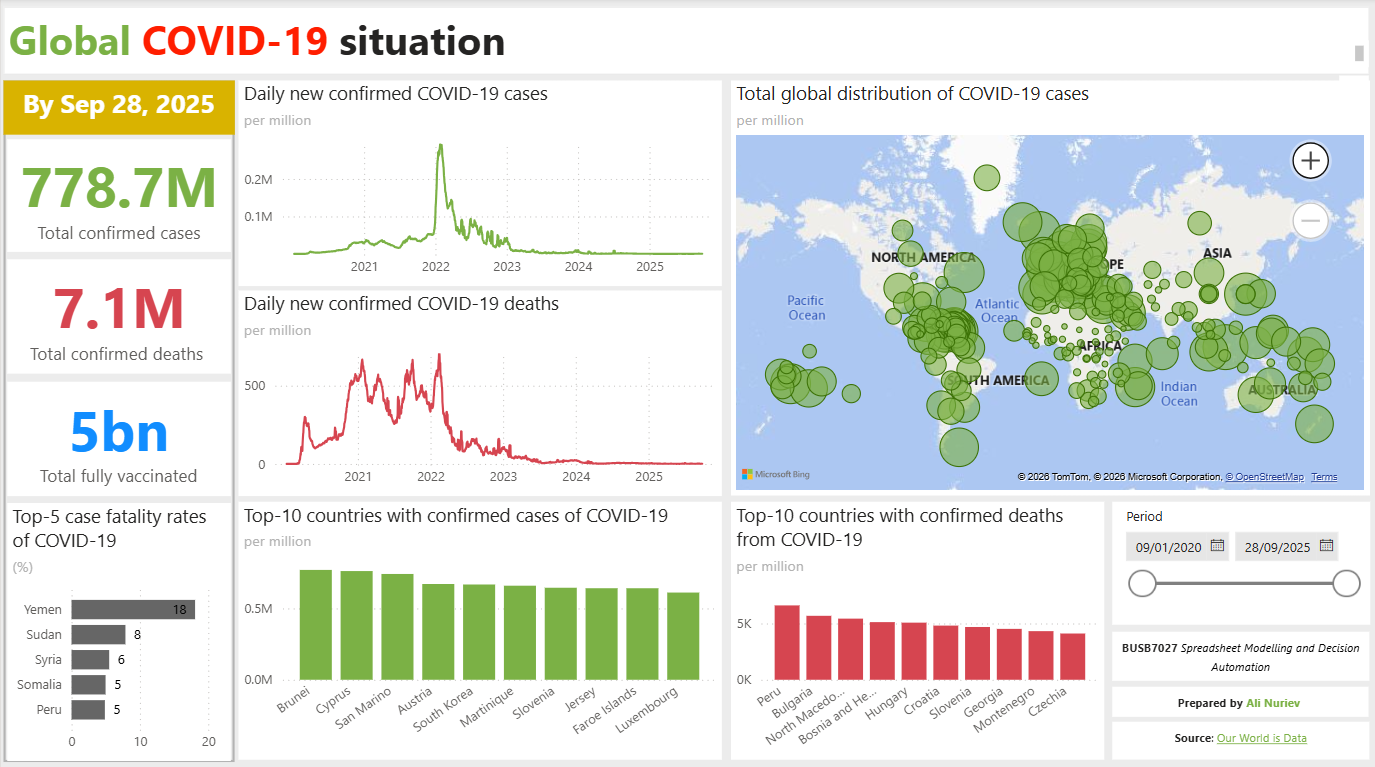

The dashboard page shown, as its layout file describes it:
{"tool":"powerbi","page":{"name":"1. Global Overview","canvas":[1280,720],"ordinal":1},"visuals":[{"type":"shape","box":[2,77,215,634],"z":0},{"type":"textbox","box":[2.2,8.3,1270.6,62.8],"z":1000},{"type":"map","title":"Total global distribution of COVID-19 cases ","fields":{"Size":["Sum(daily-new-confirmed-covid-19-cases-deaths-per-million-people.Confirmed cases)"],"Category":["daily-new-confirmed-covid-19-cases-deaths-per-million-people.Entity"]},"box":[678.5,77,594.3,386],"z":2000},{"type":"textbox","box":[711.8,40,560.9,24.5],"z":3000},{"type":"slicer","fields":{"Values":["daily-new-confirmed-covid-19-cases-deaths-per-million-people.Day Hierarchy.Day"]},"box":[1033.8,468.8,239.4,114.4],"z":4000},{"type":"card","fields":{"Values":["Sum(cumulative-confirmed-covid-19-deaths.Total confirmed deaths due to COVID-19)"]},"box":[5.6,242.8,208.3,106.1],"z":5000},{"type":"card","fields":{"Values":["Sum(cumulative-confirmed-covid-19-cases.Total confirmed cases of COVID-19)"]},"box":[5.6,131.7,208.3,104.4],"z":6000},{"type":"textbox","box":[2.2,77.2,215,50.6],"z":7000},{"type":"card","fields":{"Values":["Sum(number-of-people-who-completed-the-initial-covid-19-vaccination-protocol.People fully vaccinated (cumulative))"]},"box":[5.6,356.7,207.8,106.1],"z":8000},{"type":"lineChart","title":"Daily new confirmed COVID-19 deaths","fields":{"Y":["Sum(daily-new-confirmed-covid-19-cases-deaths-per-million-people.Confirmed death)"],"Category":["daily-new-confirmed-covid-19-cases-deaths-per-million-people.Day Hierarchy.Day"]},"box":[220.7,272,449.6,190.9],"z":9000},{"type":"lineChart","title":"Daily new confirmed COVID-19 cases","fields":{"Y":["Sum(daily-new-confirmed-covid-19-cases-deaths-per-million-people.Confirmed cases)"],"Category":["daily-new-confirmed-covid-19-cases-deaths-per-million-people.Day Hierarchy.Day"]},"box":[220.7,77,449.6,190.9],"z":10000},{"type":"columnChart","title":"Top-10 countries with confirmed deaths from COVID-19","fields":{"Category":["daily-new-confirmed-covid-19-cases-deaths-per-million-people.Entity"],"Y":["Sum(daily-new-confirmed-covid-19-cases-deaths-per-million-people.Confirmed death)"]},"box":[678.5,469.1,346.9,240.2],"z":11000},{"type":"clusteredBarChart","title":"Top-5 case fatality rates of COVID-19","fields":{"Y":["Sum(case-fatality-rate-of-covid-19.Case fatality rate of COVID-19 (%))"],"Category":["case-fatality-rate-of-covid-19.Entity"]},"box":[5.6,469.5,207.9,240],"z":12000},{"type":"columnChart","title":"Top-10 countries with confirmed cases of COVID-19","fields":{"Category":["daily-new-confirmed-covid-19-cases-deaths-per-million-people.Entity"],"Y":["Sum(daily-new-confirmed-covid-19-cases-deaths-per-million-people.Confirmed cases)"]},"box":[220.7,469.1,449.6,240.2],"z":13000},{"type":"textbox","box":[1033.8,589.4,239.4,45.6],"z":14000},{"type":"textbox","box":[1033.8,640.6,238.8,28.1],"z":15000},{"type":"textbox","box":[1033.8,673.8,239.4,35],"z":16000}]}

Visuals, with their boxes in screenshot pixels (x1, y1, x2, y2), scaled from the page's 1280x720 canvas onto the 1375x767 screenshot:
shape: <bbox>2, 82, 233, 757</bbox>
textbox: <bbox>2, 9, 1367, 76</bbox>
"Total global distribution of COVID-19 cases " map: <bbox>729, 82, 1367, 493</bbox>
textbox: <bbox>765, 43, 1367, 69</bbox>
slicer - daily-new-confirmed-covid-19-cases-deaths-per-million-people.Day Hierarchy.Day: <bbox>1111, 499, 1368, 621</bbox>
card - Sum(cumulative-confirmed-covid-19-deaths.Total confirmed deaths due to COVID-19): <bbox>6, 259, 230, 372</bbox>
card - Sum(cumulative-confirmed-covid-19-cases.Total confirmed cases of COVID-19): <bbox>6, 140, 230, 252</bbox>
textbox: <bbox>2, 82, 233, 136</bbox>
card - Sum(number-of-people-who-completed-the-initial-covid-19-vaccination-protocol.People fully vaccinated (cumulative)): <bbox>6, 380, 229, 493</bbox>
"Daily new confirmed COVID-19 deaths" lineChart: <bbox>237, 290, 720, 493</bbox>
"Daily new confirmed COVID-19 cases" lineChart: <bbox>237, 82, 720, 285</bbox>
"Top-10 countries with confirmed deaths from COVID-19" columnChart: <bbox>729, 500, 1102, 756</bbox>
"Top-5 case fatality rates of COVID-19" clusteredBarChart: <bbox>6, 500, 229, 756</bbox>
"Top-10 countries with confirmed cases of COVID-19" columnChart: <bbox>237, 500, 720, 756</bbox>
textbox: <bbox>1111, 628, 1368, 676</bbox>
textbox: <bbox>1111, 682, 1367, 712</bbox>
textbox: <bbox>1111, 718, 1368, 755</bbox>
